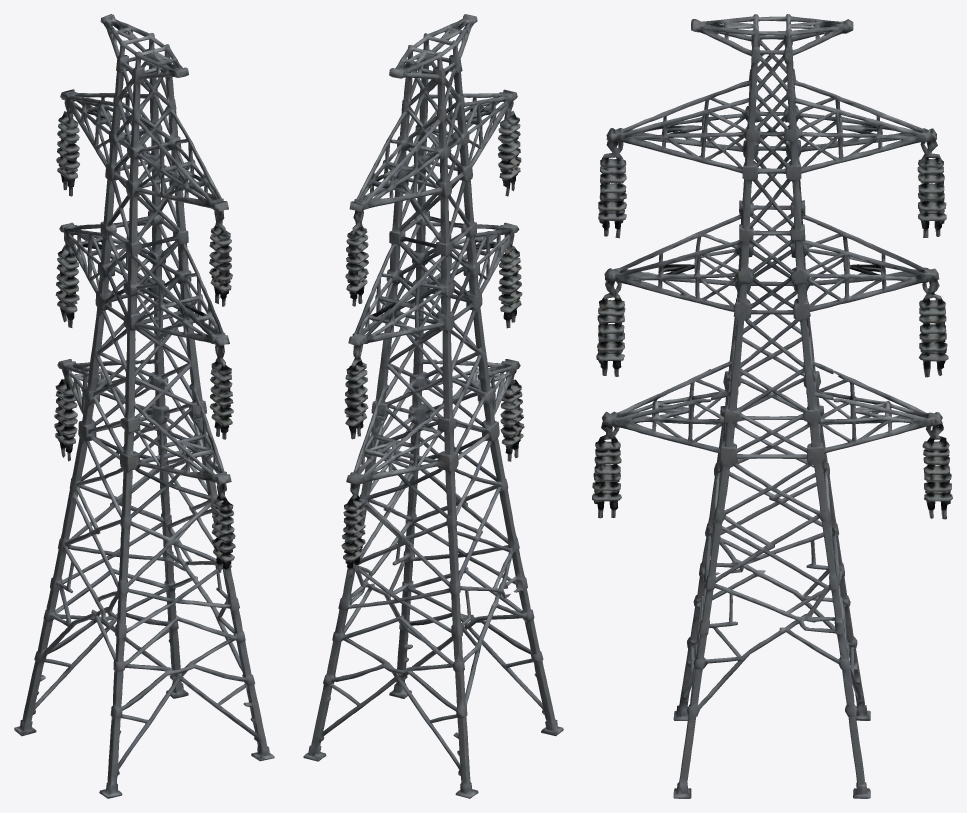
File: tower-generic.glb
3 renders of one model, left to right at view 1: azimuth 30°, elevation 25°; view 2: azimuth 150°, elevation 25°; view 3: azimuth 270°, elevation 25°, orthographic. The views are drawn at different scales.
Parts seen in each view (by area): view 1: tripo_node_f64b73e3-efc1-41c4-914a-ad4a26cbd640; view 2: tripo_node_f64b73e3-efc1-41c4-914a-ad4a26cbd640; view 3: tripo_node_f64b73e3-efc1-41c4-914a-ad4a26cbd640.
Boxes of the visible parts, x1,y1,x2,y2 form: tripo_node_f64b73e3-efc1-41c4-914a-ad4a26cbd640: (14, 14, 274, 798); tripo_node_f64b73e3-efc1-41c4-914a-ad4a26cbd640: (303, 14, 563, 798); tripo_node_f64b73e3-efc1-41c4-914a-ad4a26cbd640: (592, 14, 952, 798).
Size of the model in its own units: 0.2497 by 1 by 0.4452.
1 material, 1 textured.
